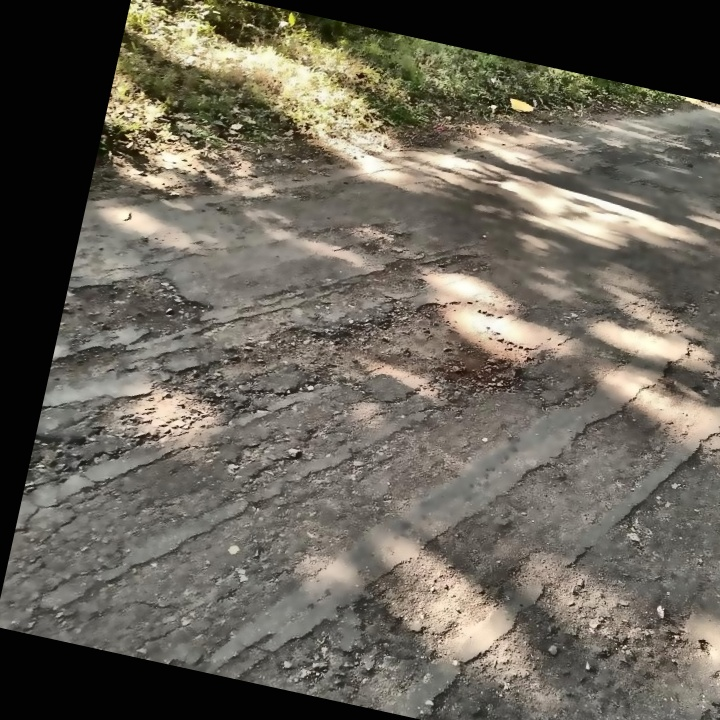pothole: (311, 270, 540, 420), (61, 254, 218, 354)
